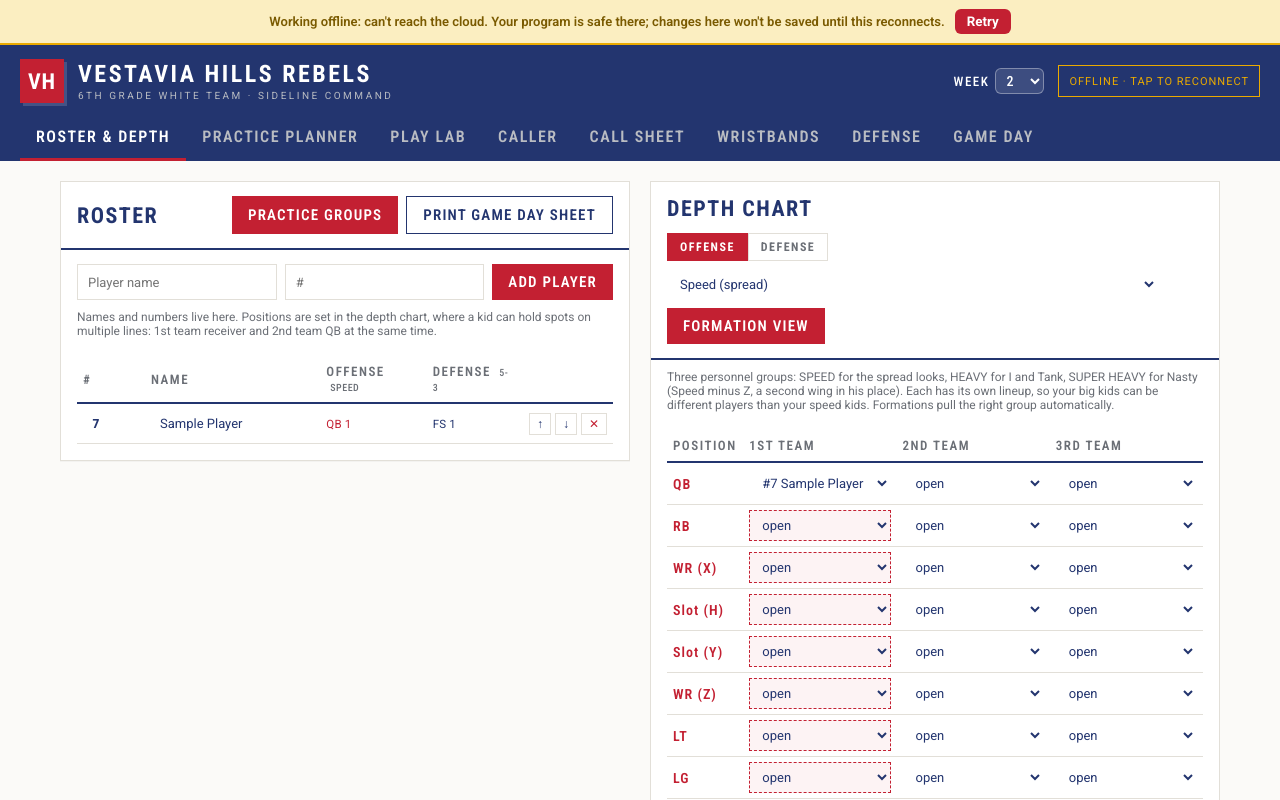
Test: supabase sync › reconnecting after an outage loads the real cloud copy, not the local guess
Expected: the text "VESTAVIA HILLS REBELS" is shown, [78,62,393,86]
Expected: the dropdown named "Season week" shows "2", [995,68,1044,94]
Click the button "Offline · tap to reconnect".
click(1159, 81)  # box [1058,65,1260,97]
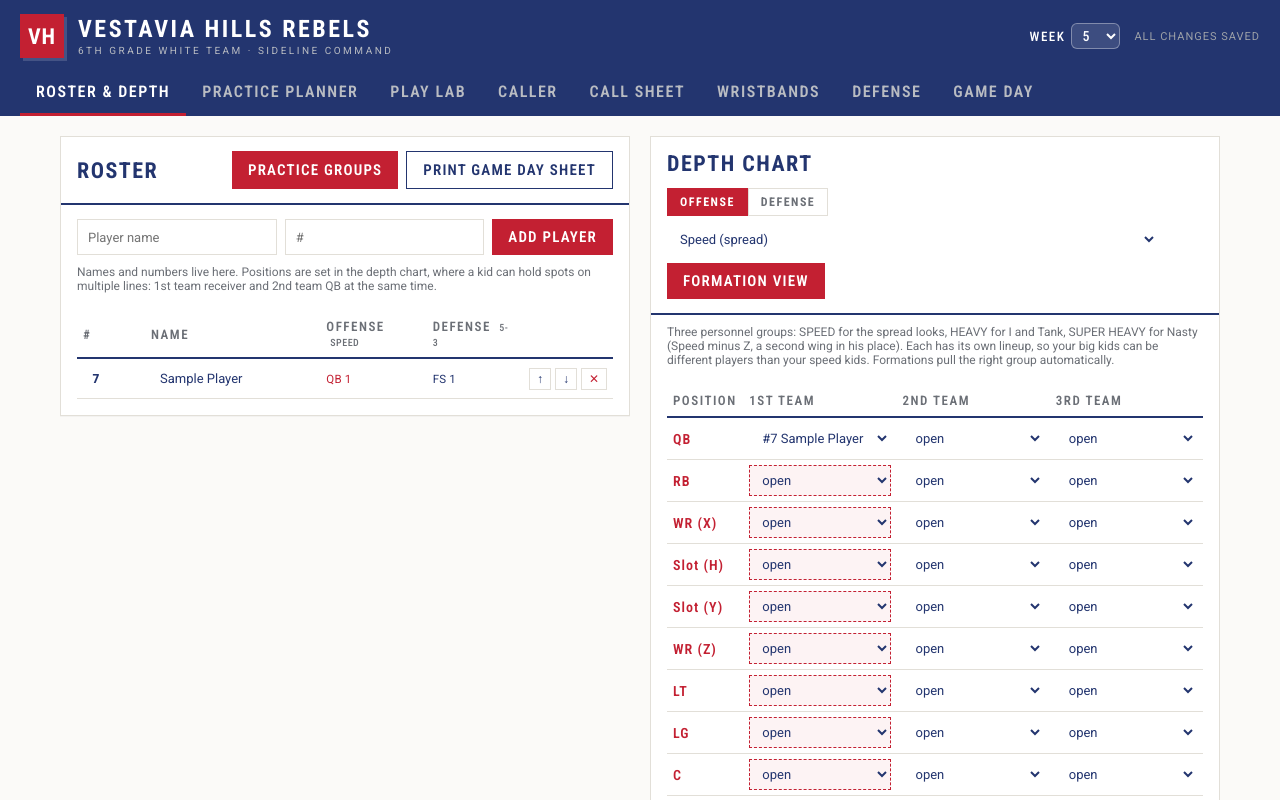
Result: the dropdown named "Season week" shows "5" at [1071,23,1120,49]
